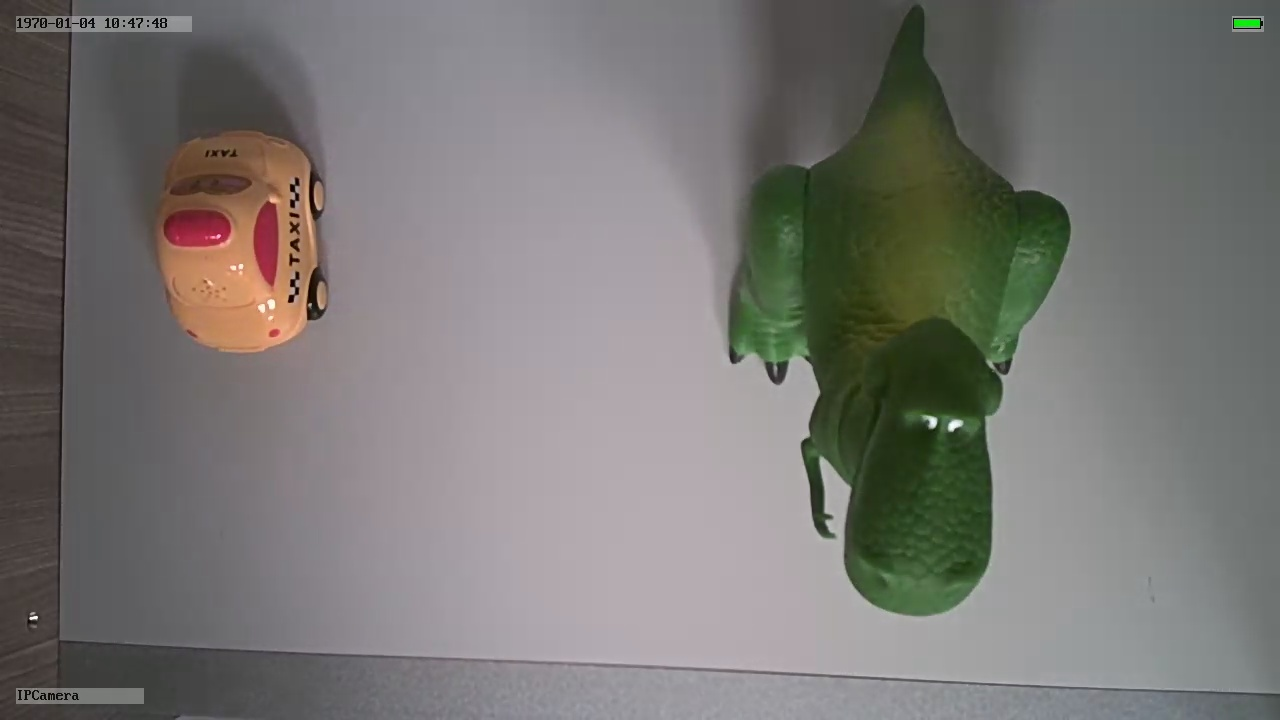car: (148, 124, 335, 355)
rex: (727, 70, 1074, 619)
